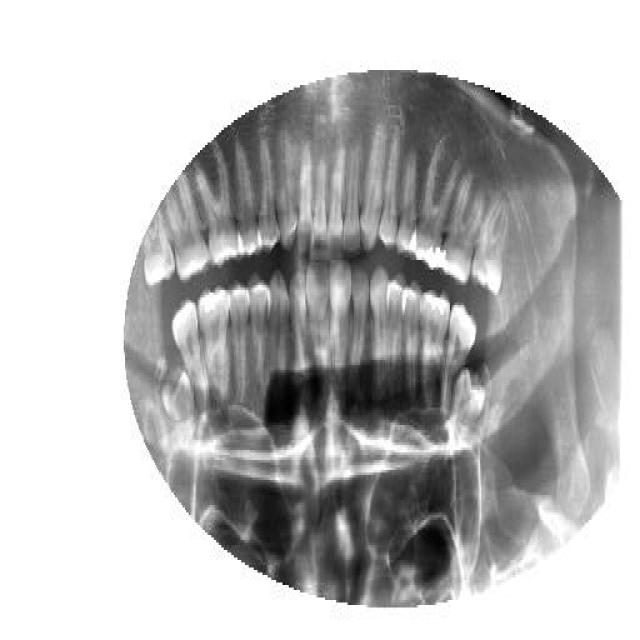Fillings: (412, 132, 462, 272)
Impacted Tooth: (448, 365, 488, 447)
